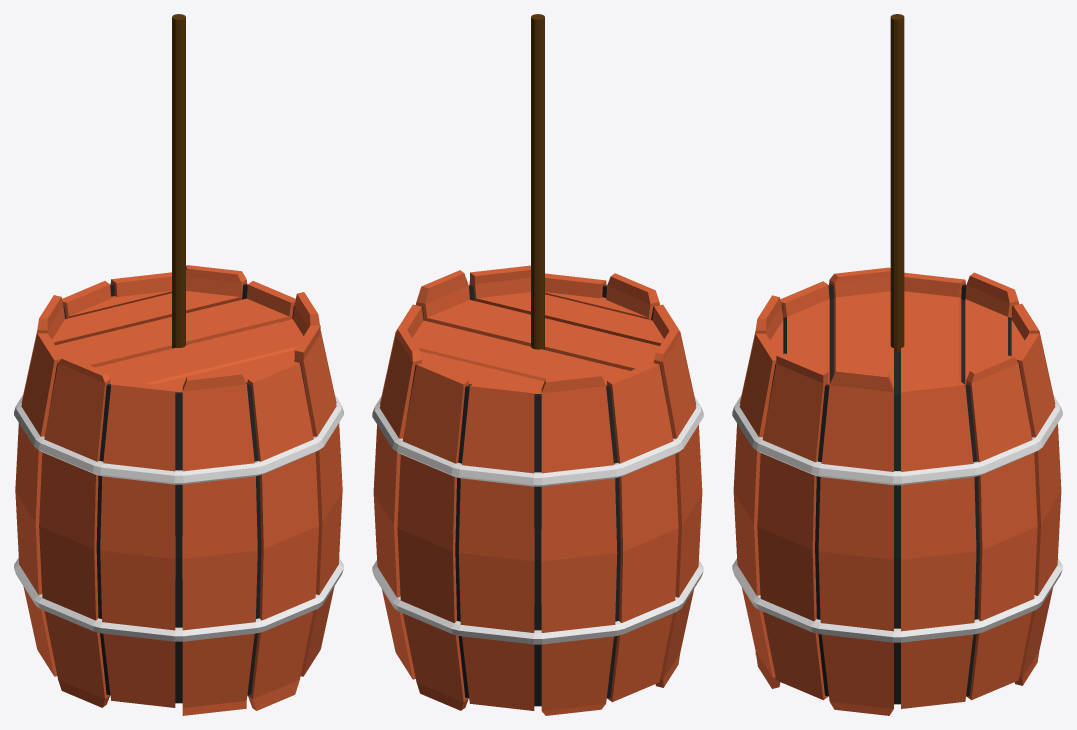
The model's file is Barrel.fbx.
3 views of the same model, side by side, from view 1: azimuth 30°, elevation 25°; view 2: azimuth 150°, elevation 25°; view 3: azimuth 270°, elevation 25° (orthographic).
Parts seen in each view (by area): view 1: Barrel.001; view 2: Barrel.001; view 3: Barrel.001.
Part boxes in pixels (x1,y1,x2,y2): Barrel.001: [14, 14, 343, 715]; Barrel.001: [372, 14, 703, 715]; Barrel.001: [732, 14, 1062, 715].
Bounding box in the file's own units: 56.71 × 122 × 56.72.
